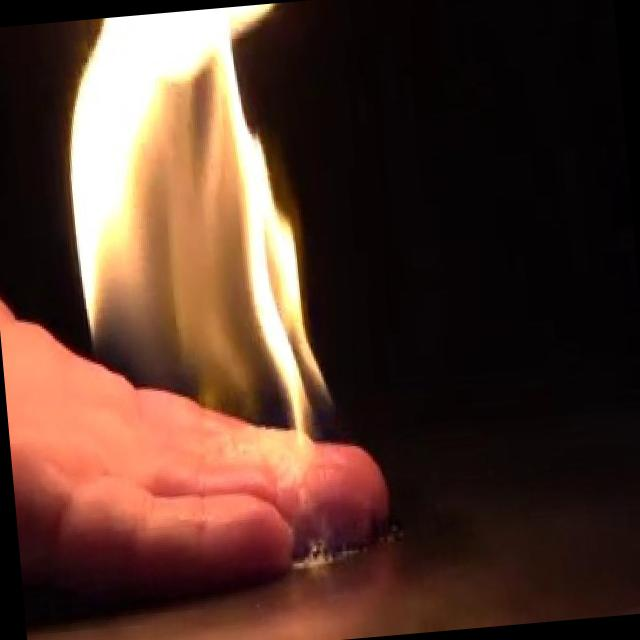Fire: (37, 0, 346, 498)
